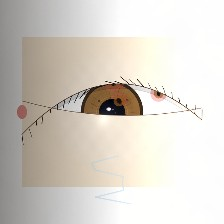foreign_body_visible: (76, 114, 94, 129)
